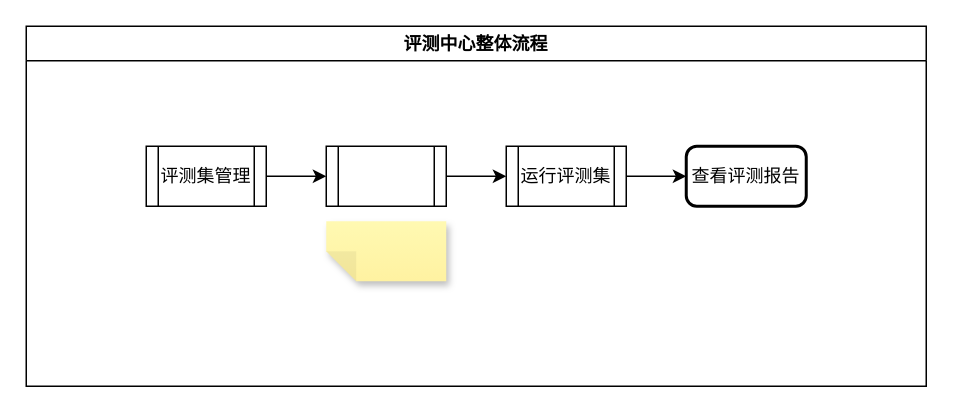
The diagram is 953 pixels wide and 413 high, and some of its shapes have lost their labels. The centre of each missing label's shape, as x and y in pixels:
"主要包括案例新建和标注" belongs at (x=387, y=252).
"评测案例管理" belongs at (x=385, y=175).
